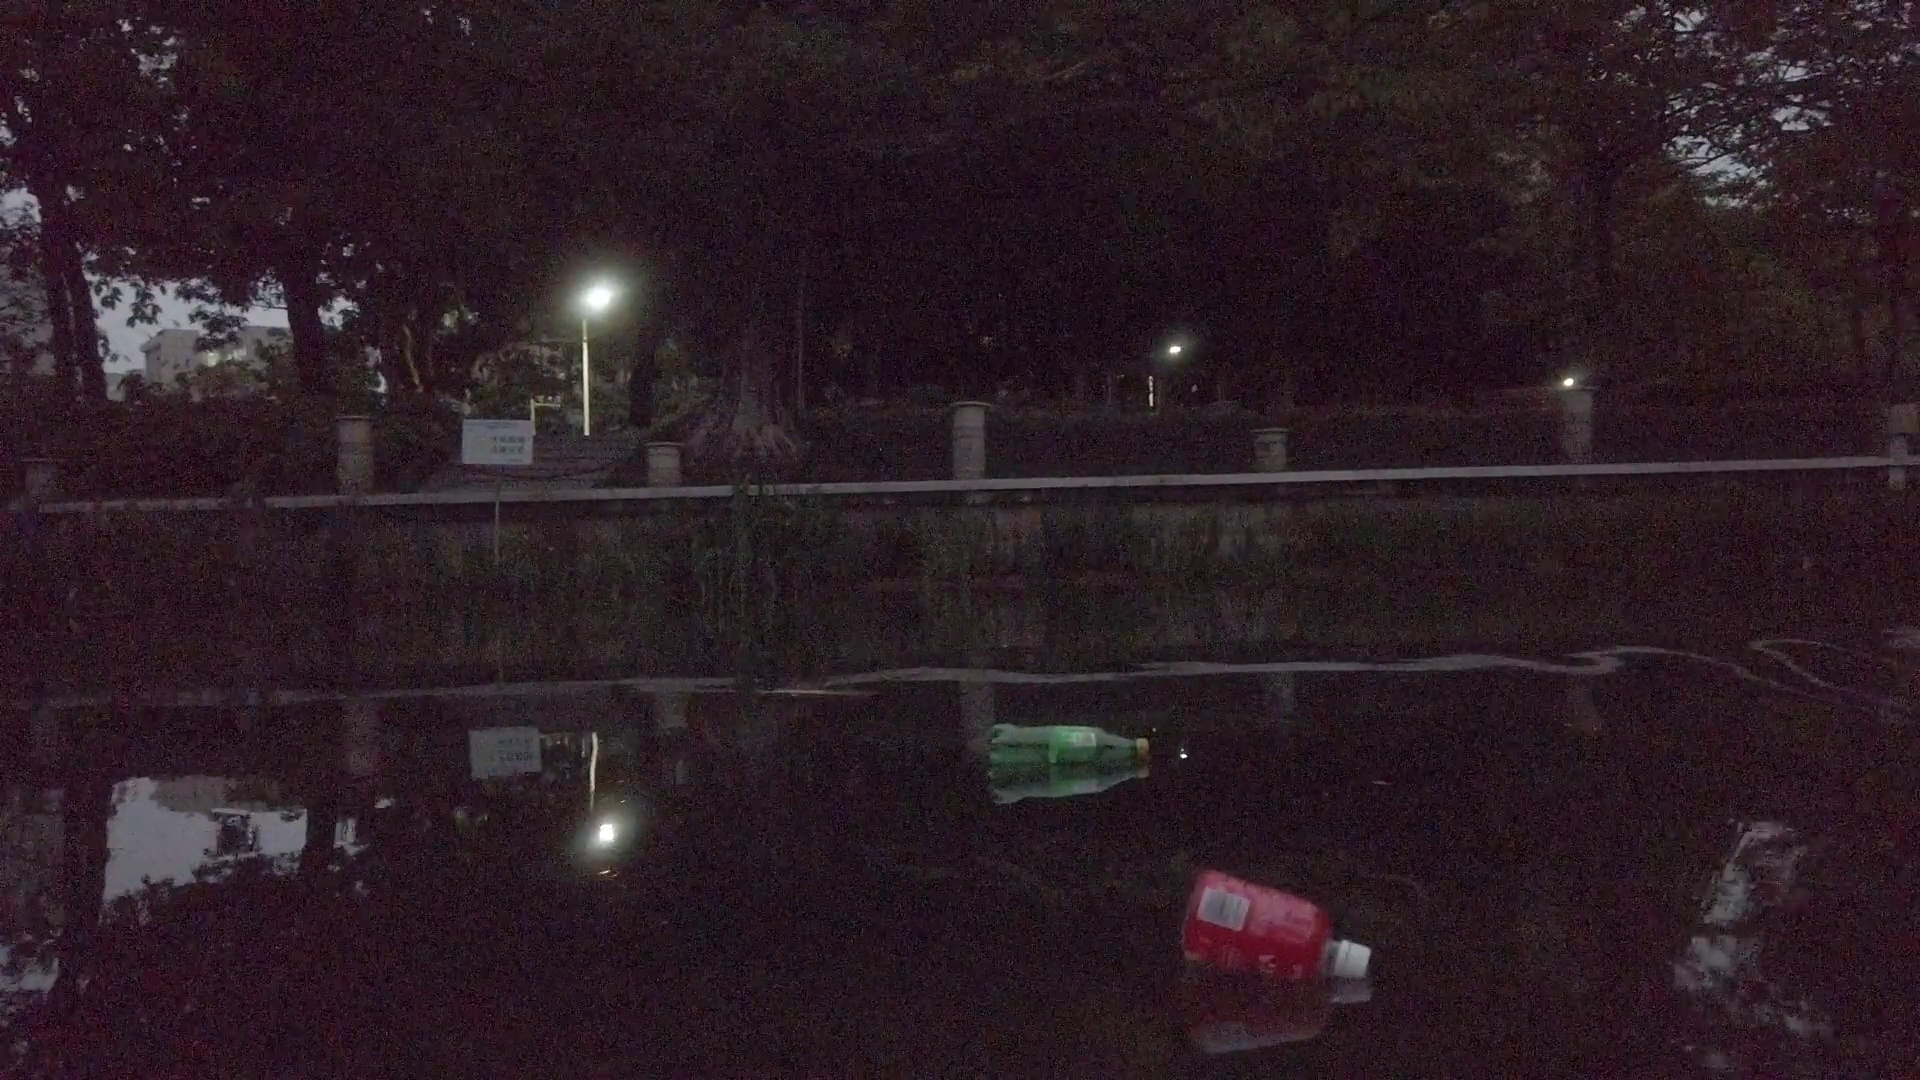bottle: (1172, 860, 1383, 984), (992, 723, 1150, 775)
